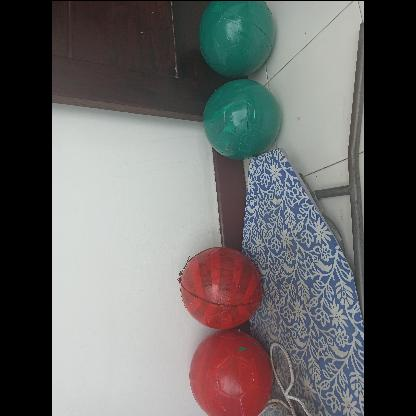red_ball: (190, 331, 276, 415), (178, 245, 260, 326)
